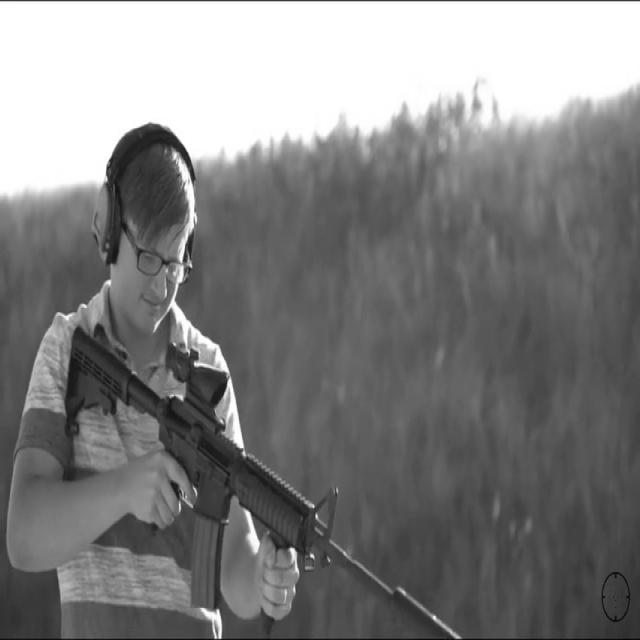Sniper: (58, 313, 416, 640)
